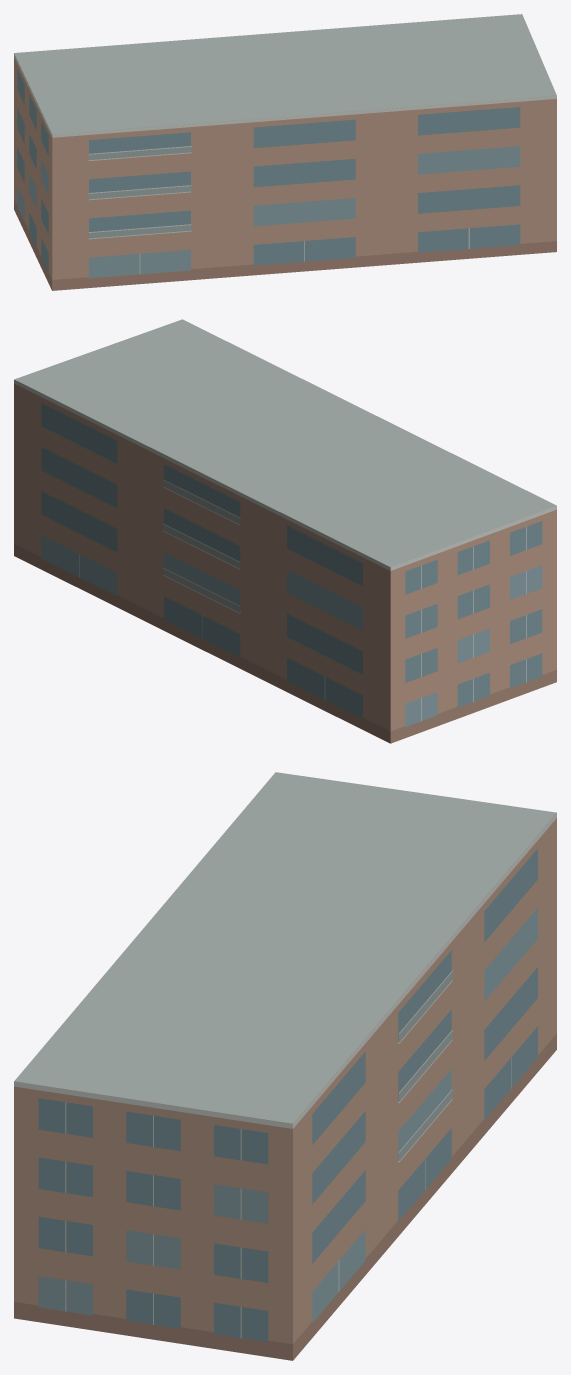
The model's file is survey-upis-32987293.glb.
3 renders of one model, top to bottom at view 1: azimuth 30°, elevation 25°; view 2: azimuth 150°, elevation 25°; view 3: azimuth 270°, elevation 25°, orthographic. The views are drawn at different scales.
Visible parts, largest first — view 1: survey-upis-32987293.tmp; view 2: survey-upis-32987293.tmp; view 3: survey-upis-32987293.tmp.
Boxes of the visible parts, bbox=[...] form: survey-upis-32987293.tmp: bbox=[14, 14, 556, 290]; survey-upis-32987293.tmp: bbox=[14, 319, 556, 743]; survey-upis-32987293.tmp: bbox=[14, 772, 556, 1360].
Size of the model in its own units: 35 by 11 by 22.83.
